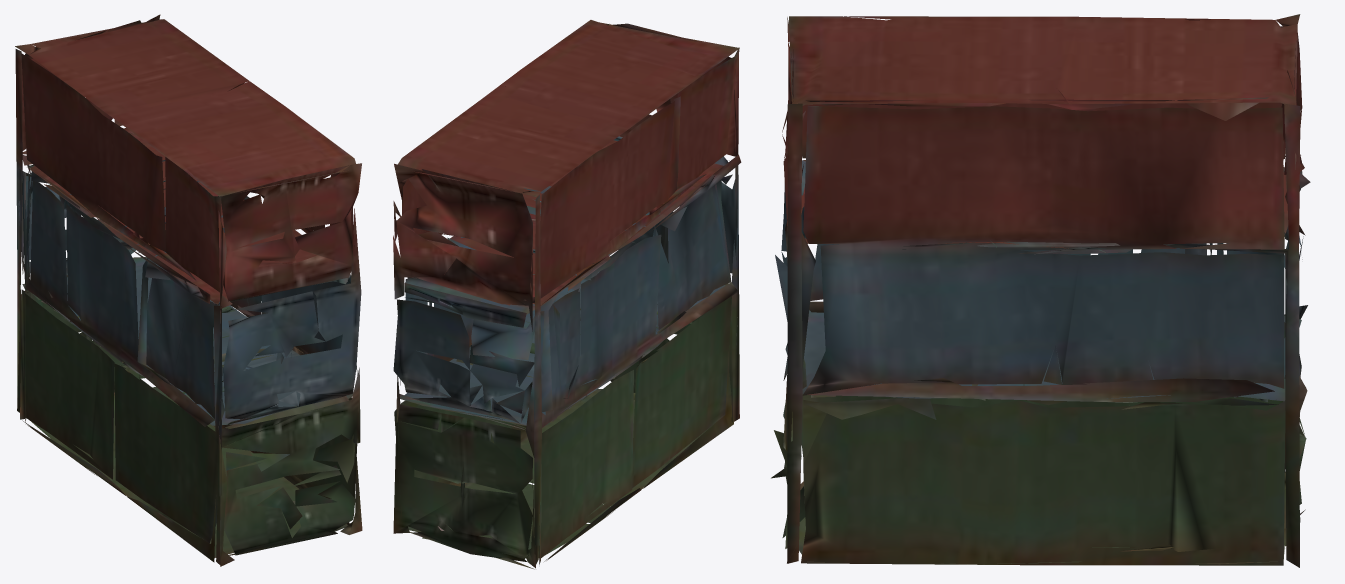
The model's file is hafen_container.glb.
3 renders of one model, left to right at view 1: azimuth 30°, elevation 25°; view 2: azimuth 150°, elevation 25°; view 3: azimuth 270°, elevation 25°, orthographic. The views are drawn at different scales.
Parts seen in each view (by area): view 1: Prop; view 2: Prop; view 3: Prop.
Part boxes in pixels (box(x1,y1,x2,y2)): Prop: box(15, 14, 362, 566); Prop: box(393, 20, 741, 569); Prop: box(771, 14, 1310, 567).
Size of the model in its own units: 0.4548 by 1.01 by 1.09.
Materials: 1 (1 with a texture image).
